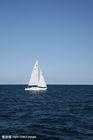fanchuan: (24, 57, 51, 92)
